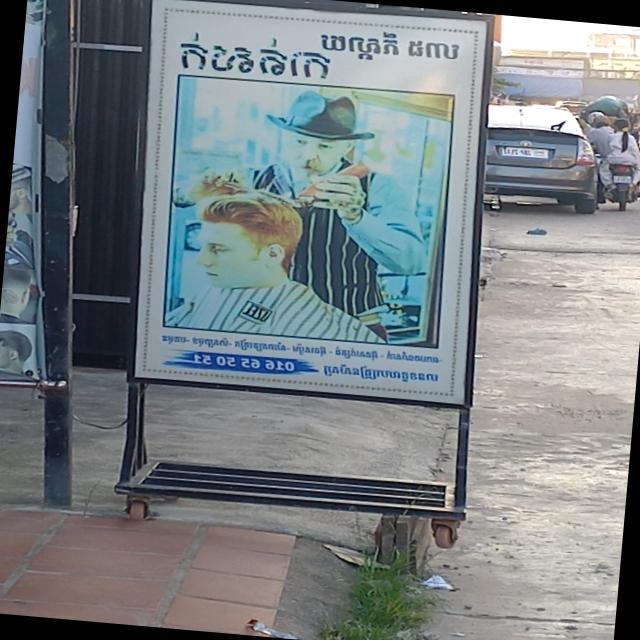311: (186, 350, 296, 373)
Yolov11kh: (157, 331, 443, 367), (172, 30, 337, 83), (315, 22, 465, 64), (315, 360, 441, 386)
